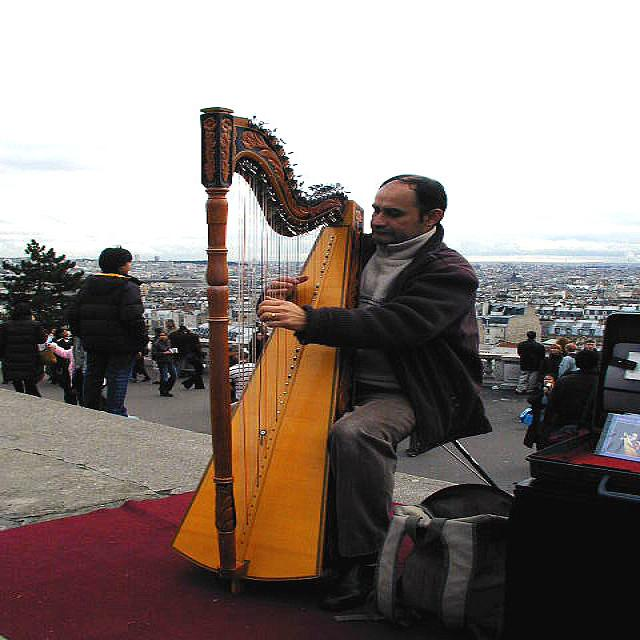harp: (165, 105, 367, 592)
